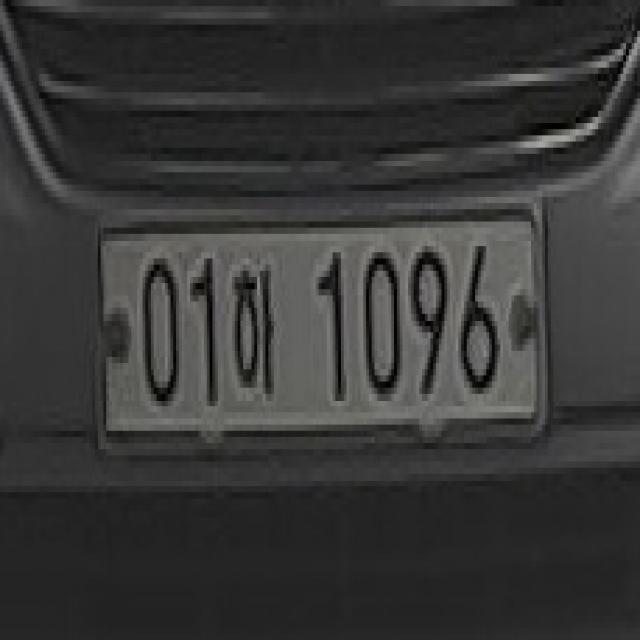0: (134, 249, 184, 418), (364, 246, 402, 415)
1: (314, 244, 352, 425), (188, 240, 222, 427)
6: (457, 236, 509, 396)
9: (409, 232, 450, 413)
ha: (228, 254, 284, 422)
license_plate: (82, 210, 560, 466)
